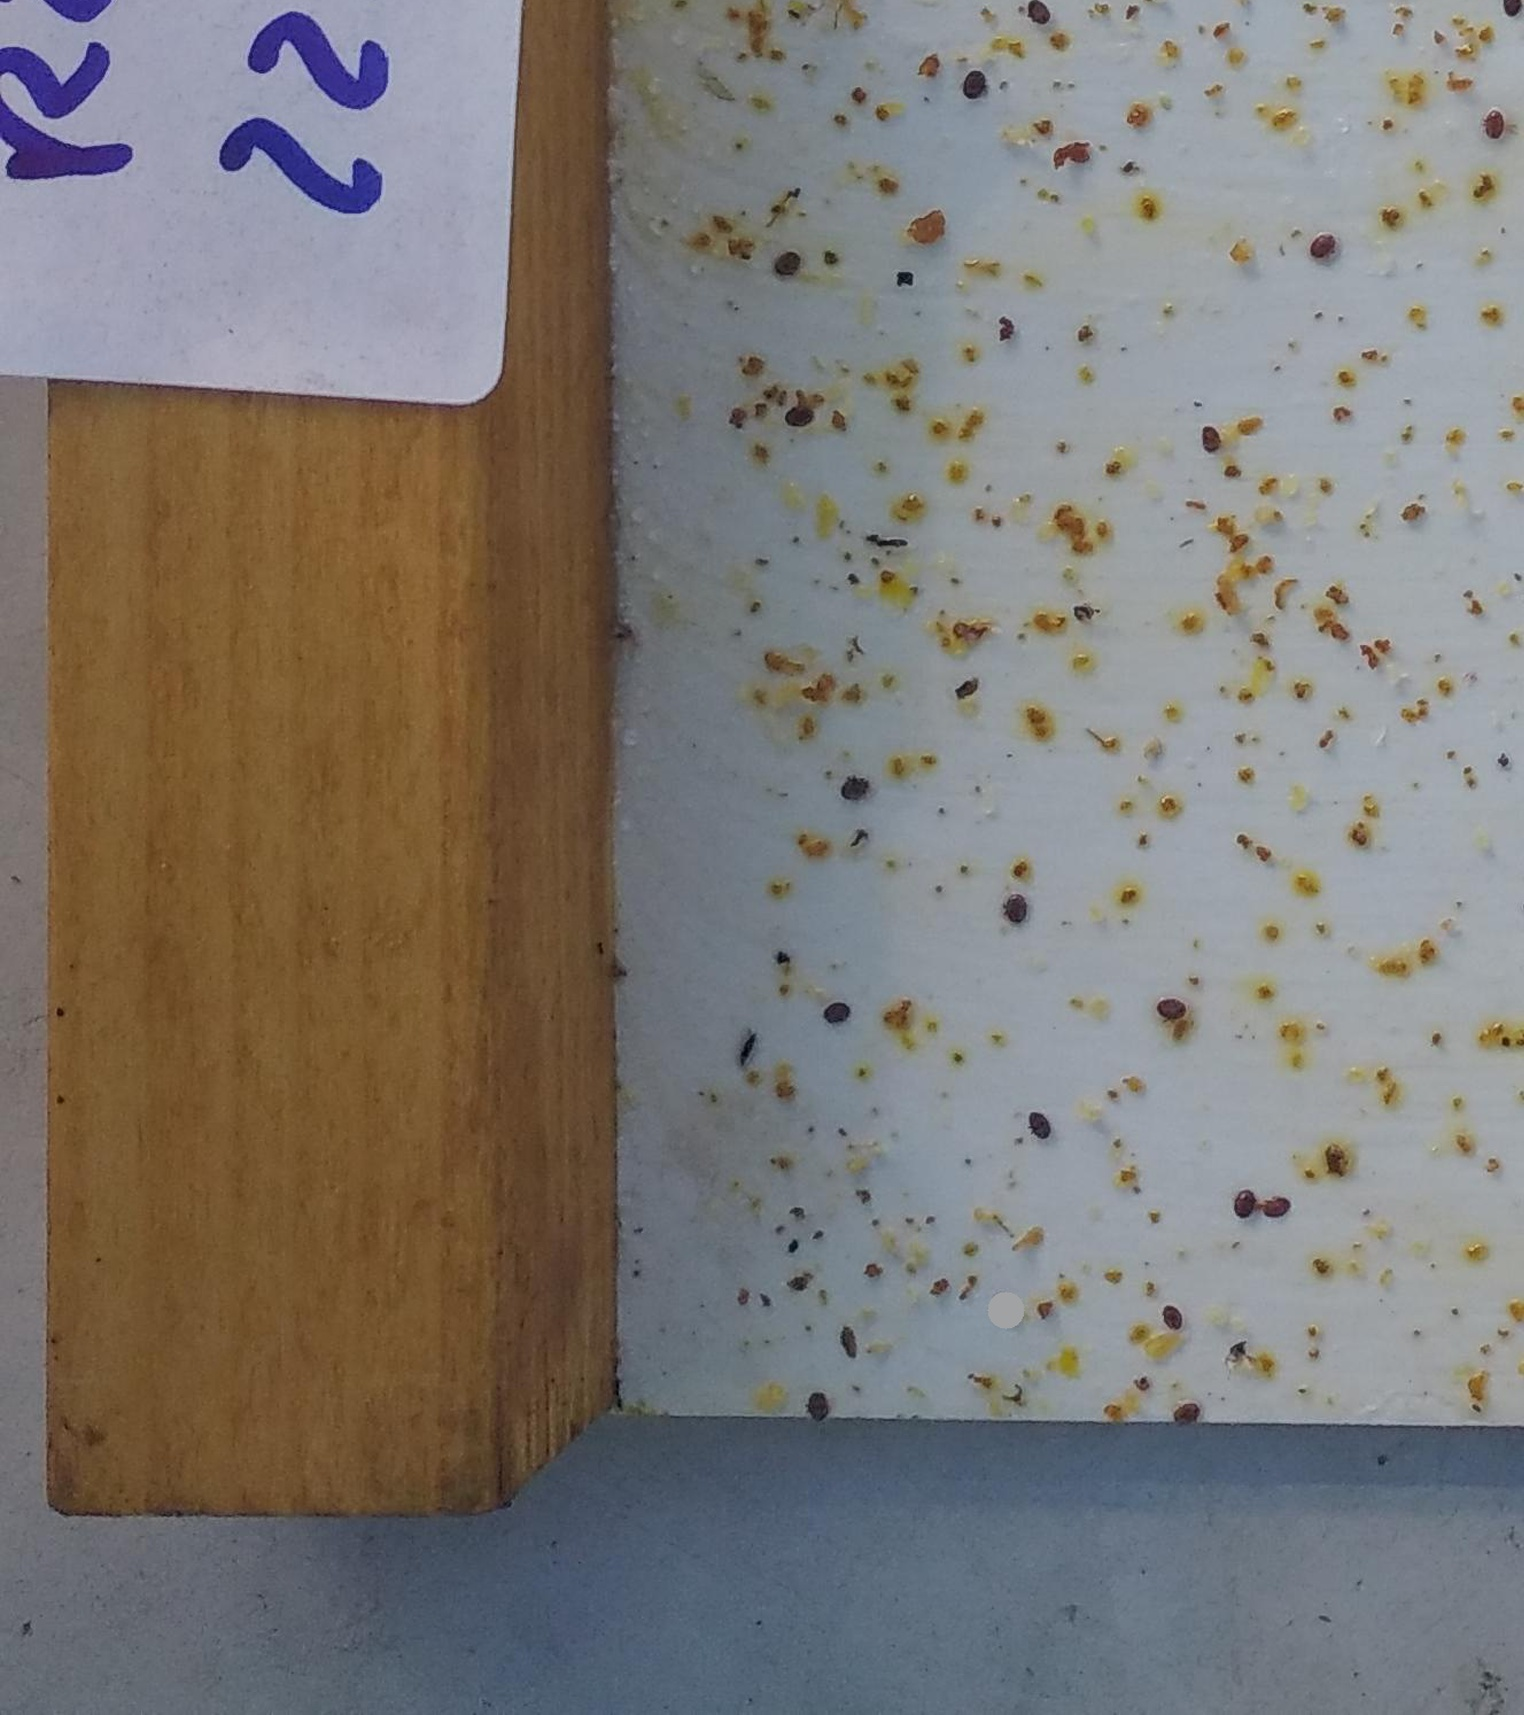Varroa: (822, 997, 864, 1035), (1253, 1187, 1289, 1222), (958, 69, 991, 103), (1155, 1302, 1187, 1336), (1231, 1183, 1264, 1216), (1478, 107, 1509, 140), (1025, 1110, 1058, 1141), (1308, 232, 1339, 265), (806, 1396, 836, 1430), (1155, 993, 1184, 1024), (1196, 422, 1225, 453), (1000, 894, 1028, 924), (774, 249, 802, 278), (1171, 1394, 1197, 1422), (841, 775, 869, 802), (786, 402, 811, 427)
